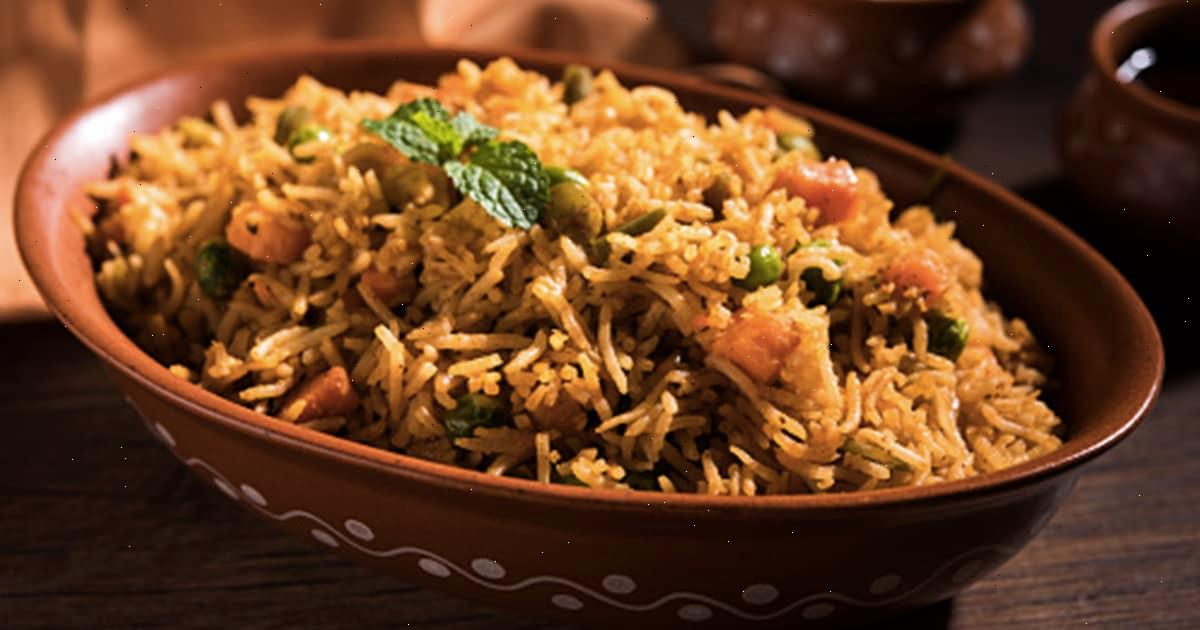veg-pulao: (111, 47, 1025, 473)
